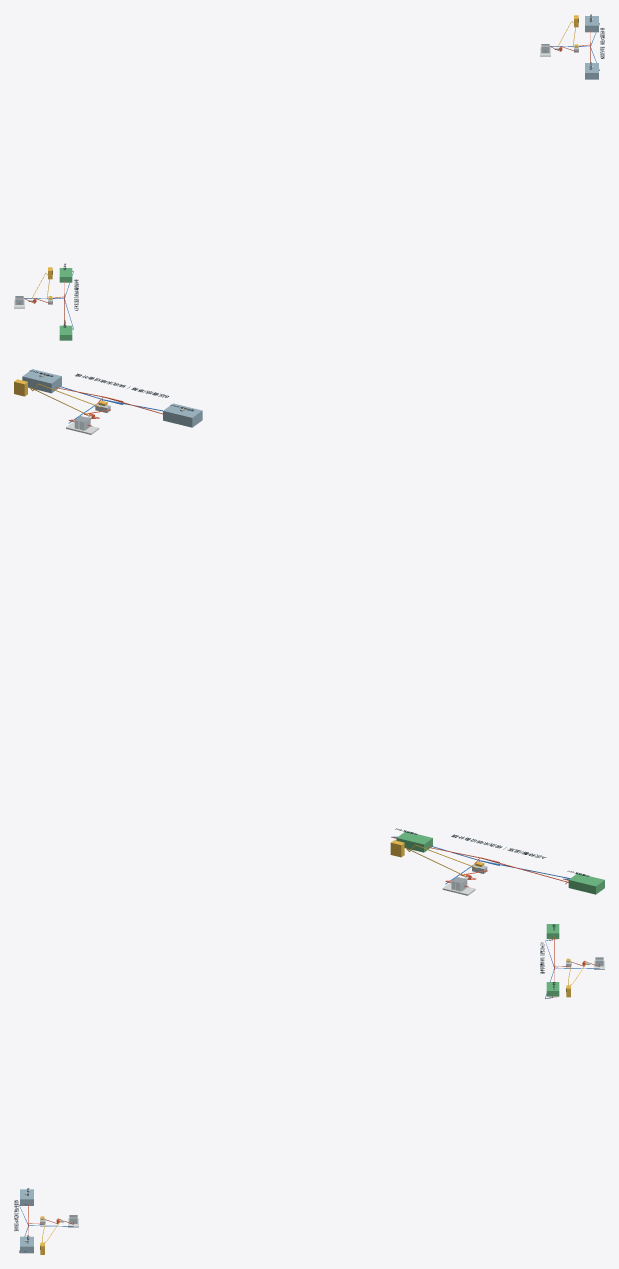
The model's file is AB_terminal_slice.glb.
The picture shows the model from 3 angles, top to bottom: view 1: azimuth 90°, elevation 25°; view 2: azimuth 150°, elevation 25°; view 3: azimuth 270°, elevation 25°; orthographic projection. The views are drawn at different scales.
Parts seen in each view (by area): view 1: no part large enough to name; view 2: M9 | AHU 箱体; view 3: no part large enough to name.
Part boxes in pixels (x1,y1,x2,y2): M9 | AHU 箱体: (163, 403, 202, 427).
Size of the model in its own units: 490 by 9.46 by 381.
